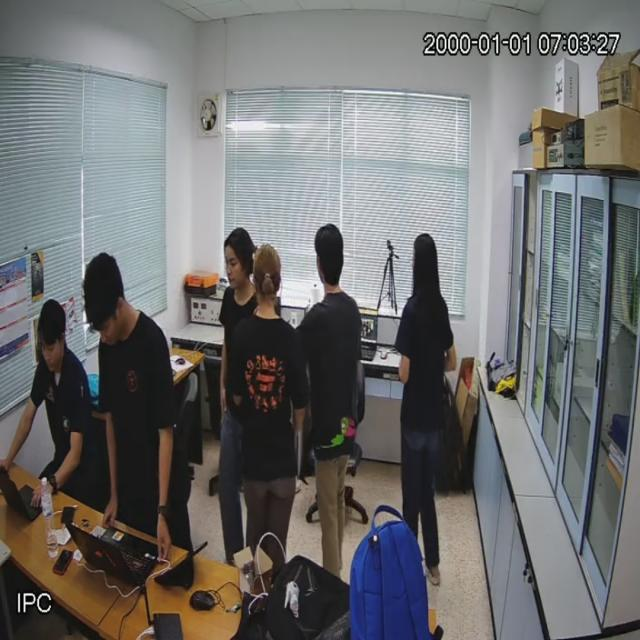normal: (87, 256, 187, 553), (301, 228, 358, 576), (236, 250, 299, 558), (400, 232, 455, 584), (15, 300, 92, 504), (214, 232, 258, 554)
